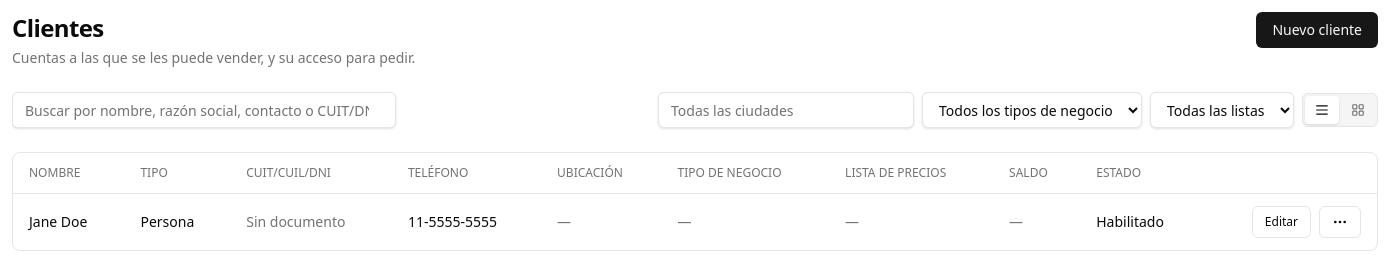
Test: CustomersScreen › searches on the server, debounced, instead of filtering client-side
Expected: the text "Jane Doe" is shown, [13,194,124,250]
Step 1. Type "acme" into the search field named "buscar clientes" → (204, 110), box [12,92,396,128]
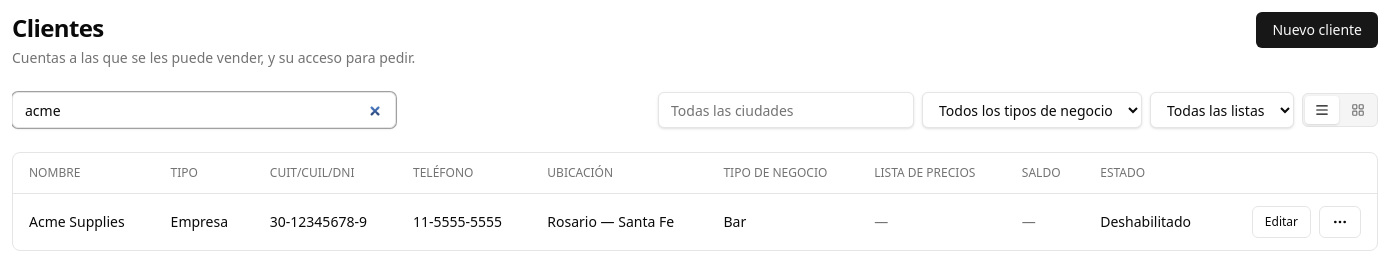
Result: the text "Acme Supplies" is shown at [13,194,155,250]
Result: the text "Jane Doe" is gone
